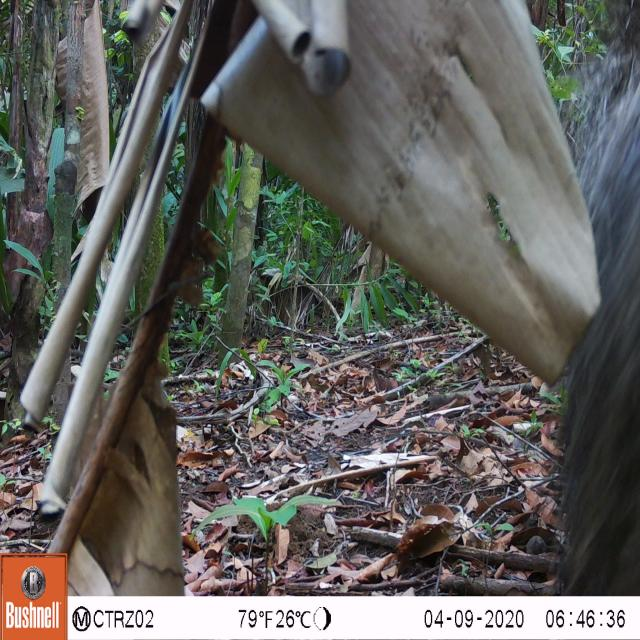Giant Anteater: (534, 4, 640, 594)
